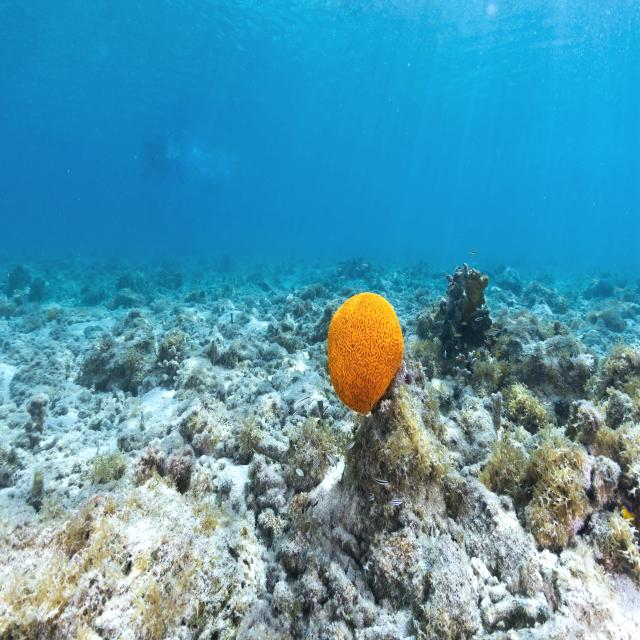Coral: (328, 292, 404, 412)
